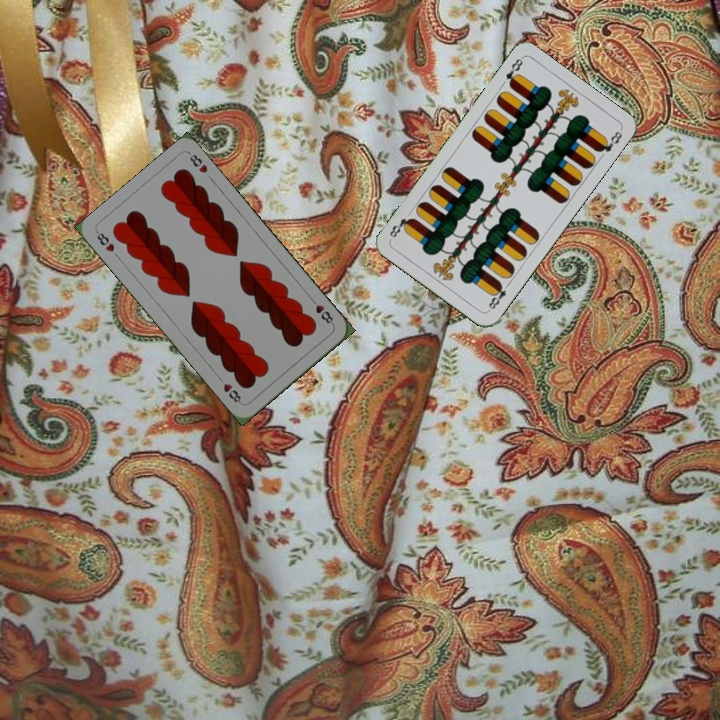E8: (484, 278, 513, 313), (502, 54, 526, 89)
H8: (306, 294, 336, 328), (92, 227, 117, 255)
